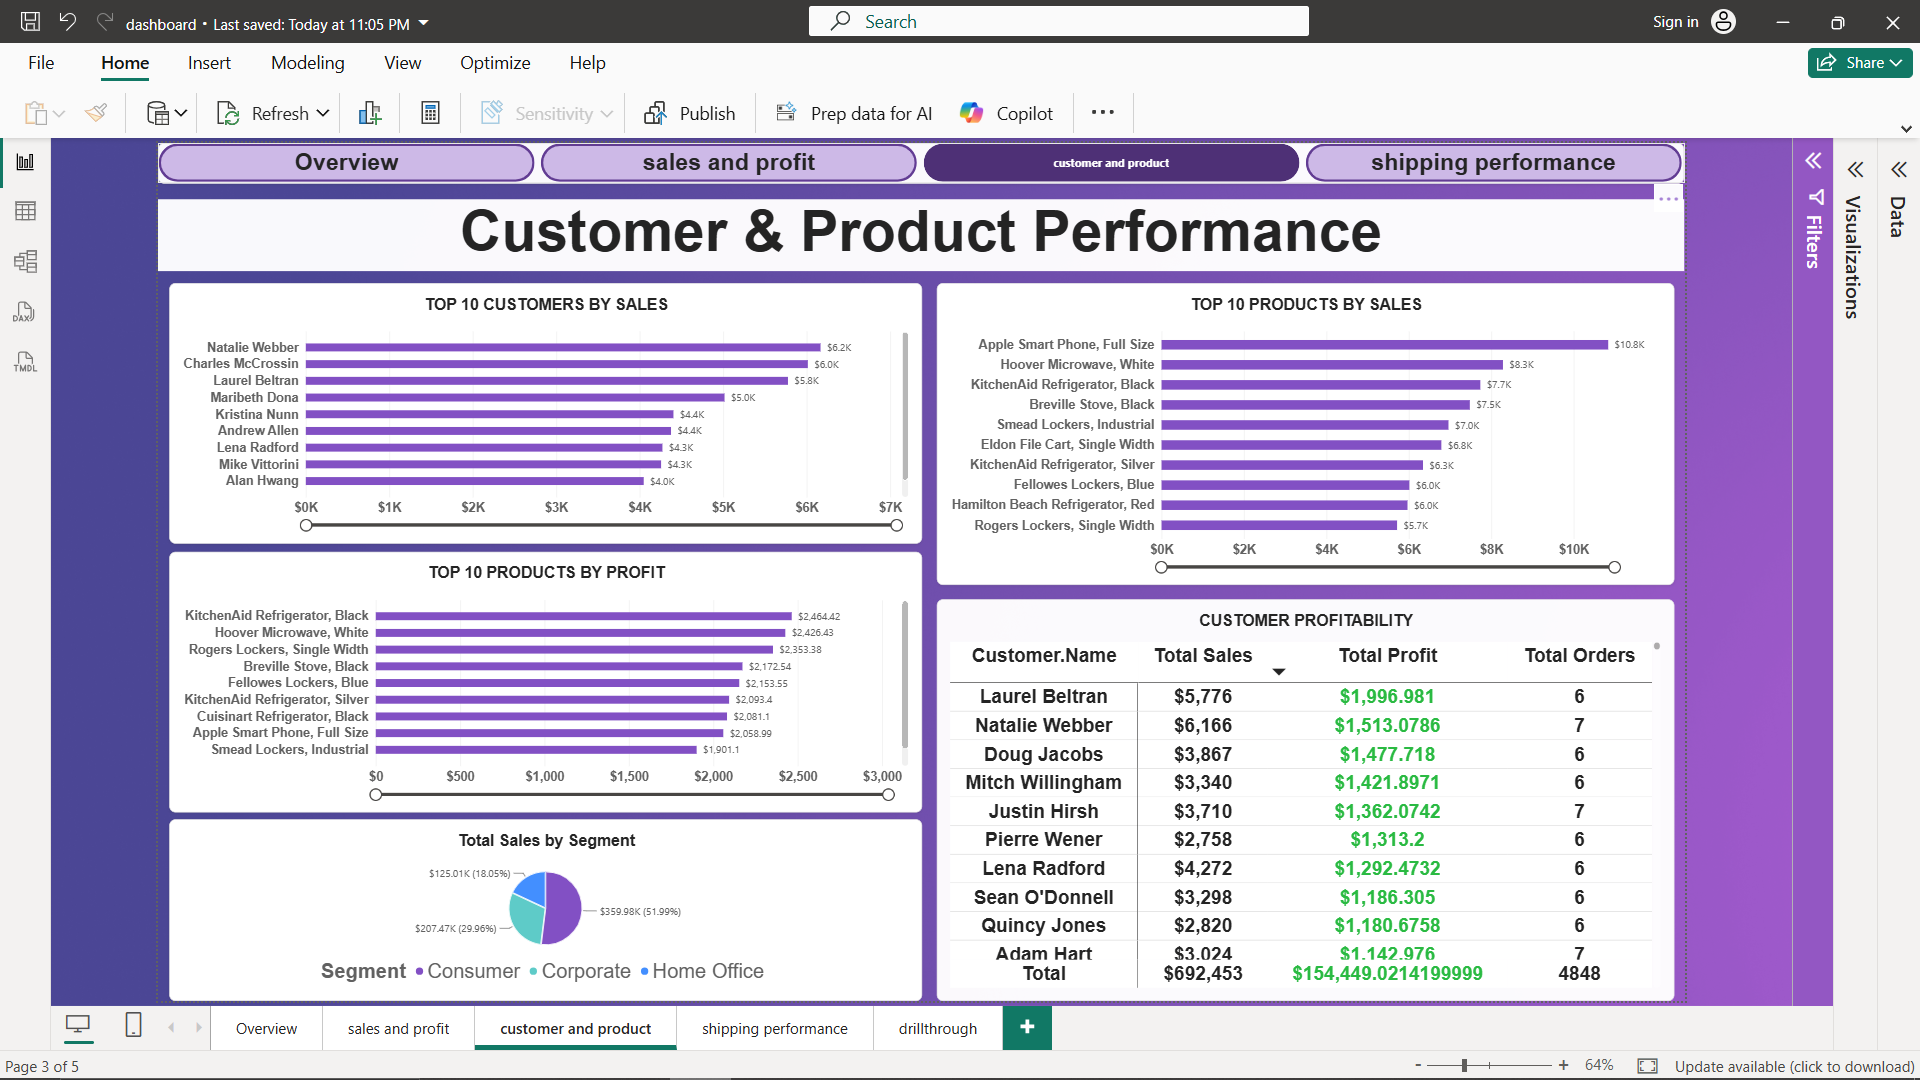

The dashboard page shown, as its layout file describes it:
{"tool":"powerbi","page":{"name":"customer and product","canvas":[1920,1080],"ordinal":2},"visuals":[{"type":"textbox","title":"Global Superstore - Executive Business Overview","box":[0,70.8,1920.4,90.7],"z":0},{"type":"barChart","title":"TOP 10 CUSTOMERS BY  SALES","fields":{"Category":["superstore.Customer.Name"],"Y":["DateTable.Total Sales"]},"box":[14,176.2,947.1,327.9],"z":1},{"type":"barChart","title":"TOP 10 PRODUCTS BY  SALES","fields":{"Category":["superstore.Product.Name"],"Y":["DateTable.Total Sales"]},"box":[980.2,176.2,927.9,380.2],"z":2},{"type":"barChart","title":"TOP 10 PRODUCTS BY PROFIT","fields":{"Category":["superstore.Product.Name"],"Y":["DateTable.Total Profit"]},"box":[14,514,947,328],"z":3},{"type":"pieChart","fields":{"Category":["superstore.Segment"],"Y":["DateTable.Total Sales"]},"box":[14,851.2,947.1,228.5],"z":4},{"type":"pivotTable","title":"CUSTOMER PROFITABILITY","fields":{"Rows":["superstore.Customer.Name"],"Values":["DateTable.Total Sales","DateTable.Total Profit","DateTable.Total Orders"]},"box":[980.2,573.8,927.9,505.8],"z":5},{"type":"pageNavigator","box":[0,0,1919.9,50.9],"z":6}]}

Visuals, with their boxes on the page's 1920x1080 design canvas (x1, y1, x2, y2). These are canvas units, not pixel positions in the 1920x1080 screenshot, which may show the page scaled, cropped or inside an application window:
"Global Superstore - Executive Business Overview" textbox: x1=0, y1=71, x2=1920, y2=162
"TOP 10 CUSTOMERS BY  SALES" barChart: x1=14, y1=176, x2=961, y2=504
"TOP 10 PRODUCTS BY  SALES" barChart: x1=980, y1=176, x2=1908, y2=556
"TOP 10 PRODUCTS BY PROFIT" barChart: x1=14, y1=514, x2=961, y2=842
pieChart - superstore.Segment x DateTable.Total Sales: x1=14, y1=851, x2=961, y2=1080
"CUSTOMER PROFITABILITY" pivotTable: x1=980, y1=574, x2=1908, y2=1080
pageNavigator: x1=0, y1=0, x2=1920, y2=51
